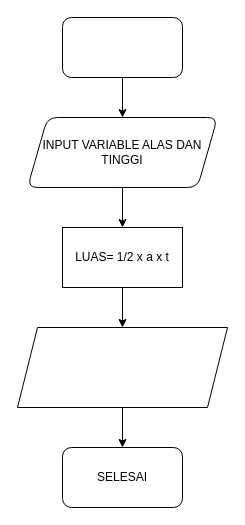
Some shapes in this 245 by 525 pixel diagram are drawn without their labels. Each missing label, with the centre of its shape:
"MULAI" goes at point 122,47.
"OUTPUT ADALAH HASIL DARI VARIABLE LUAS" goes at point 122,367.
